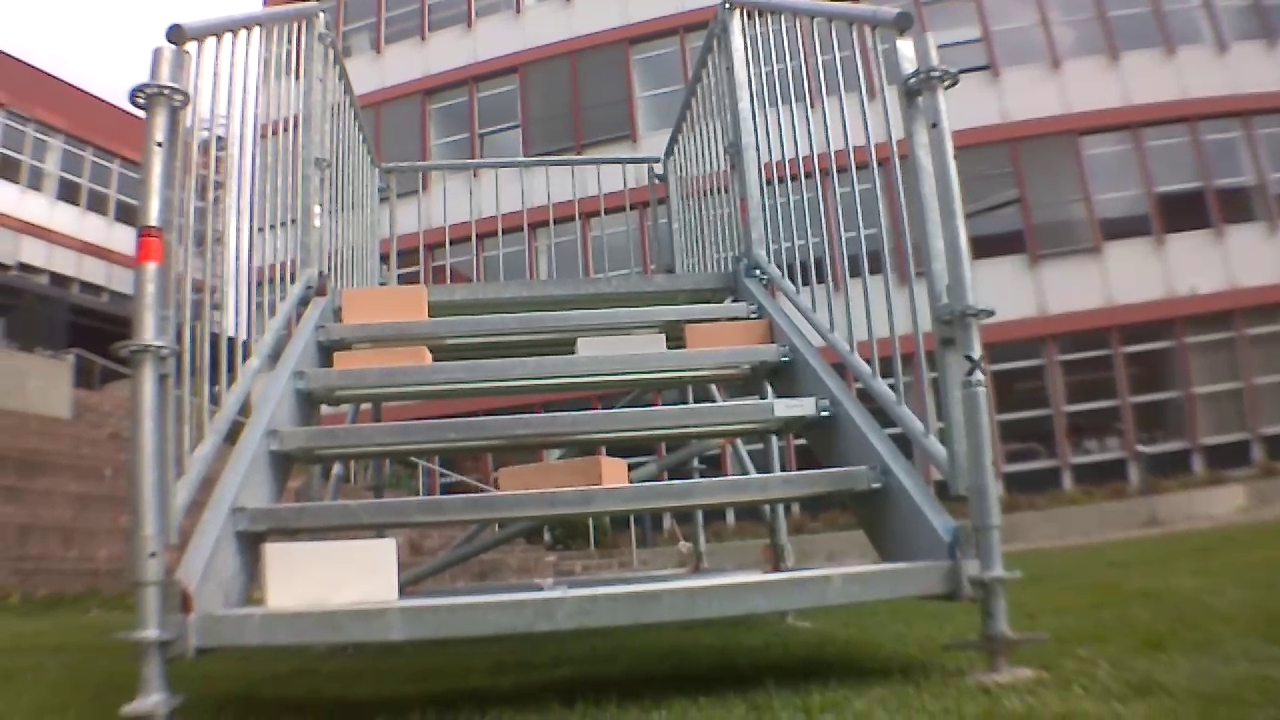brick: (268, 534, 403, 609), (498, 452, 631, 488), (334, 278, 430, 318), (681, 315, 779, 351), (331, 341, 432, 369), (573, 328, 661, 355)
edge: (201, 560, 958, 655), (225, 467, 882, 538), (265, 399, 834, 457), (292, 345, 793, 391), (309, 297, 763, 344), (338, 269, 737, 294)
stairs: (148, 0, 1012, 674)
steps: (195, 264, 949, 664)
